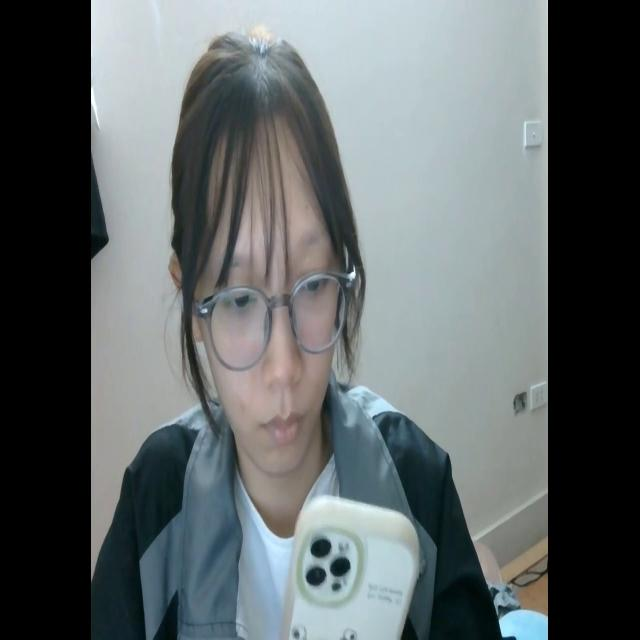phone: (280, 492, 418, 640)
student: (90, 28, 498, 640)
